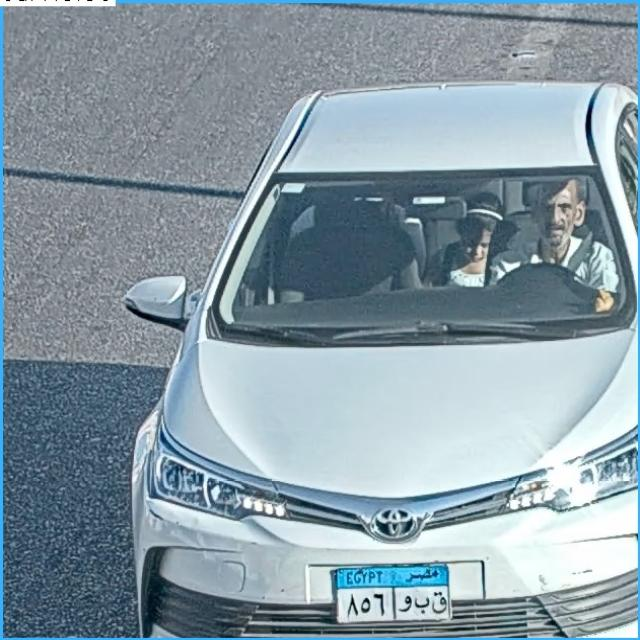windshield: (208, 174, 635, 330)
